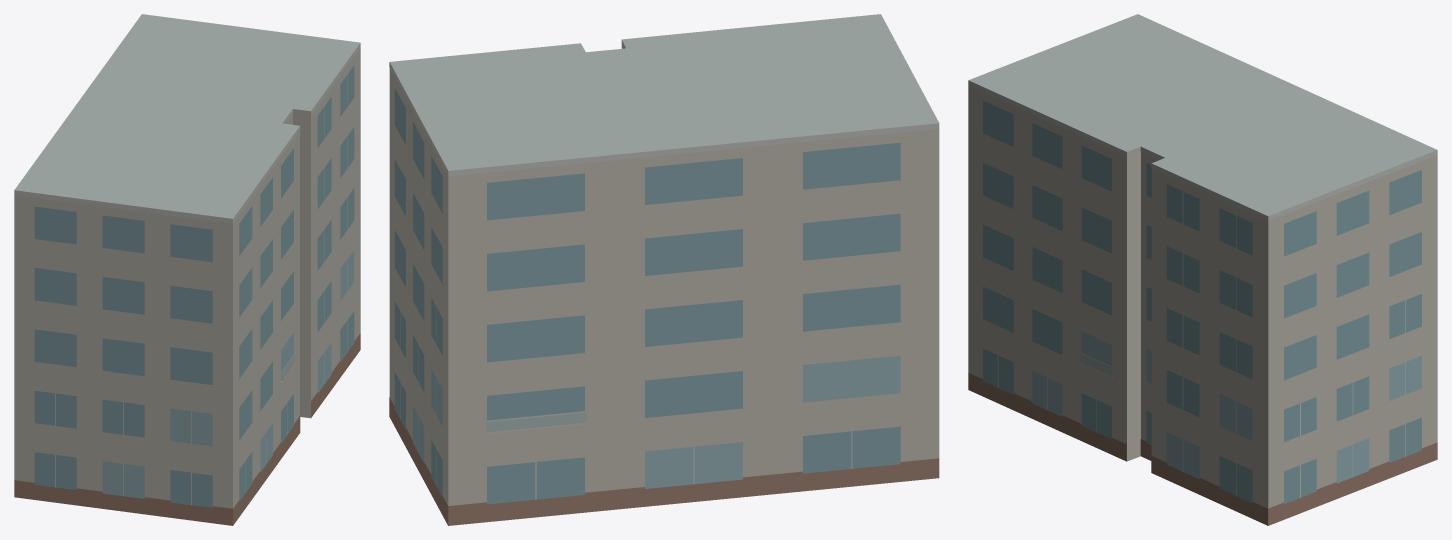
Rendered from survey-upis-32694433.glb.
3 views of the same model, side by side, from view 1: azimuth 30°, elevation 25°; view 2: azimuth 150°, elevation 25°; view 3: azimuth 270°, elevation 25° (orthographic). The views are drawn at different scales.
Visible parts, largest first — view 1: survey-upis-32694433.tmp; view 2: survey-upis-32694433.tmp; view 3: survey-upis-32694433.tmp.
Part boxes in pixels (x1,y1,x2,y2): survey-upis-32694433.tmp: (14, 14, 360, 525); survey-upis-32694433.tmp: (389, 14, 939, 525); survey-upis-32694433.tmp: (968, 14, 1437, 525).
Bounding box in the file's own units: 21.44 × 15.3 × 21.02.
